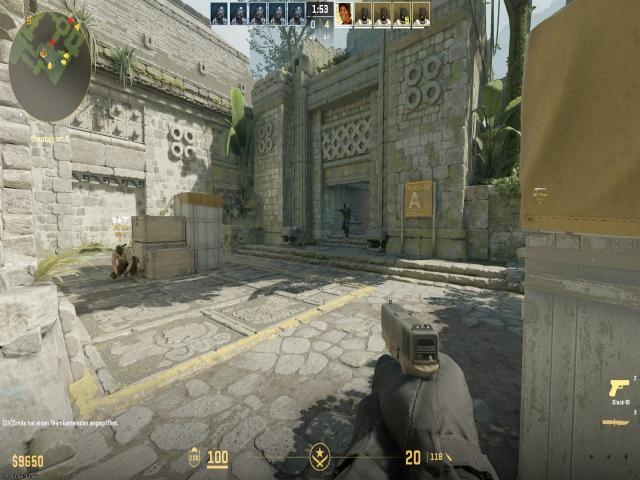Bomb: (118, 271, 128, 282)
CT: (339, 196, 354, 241)
CT-Head: (342, 200, 350, 212)
T: (110, 235, 142, 287)
T-Head: (117, 244, 126, 257)
